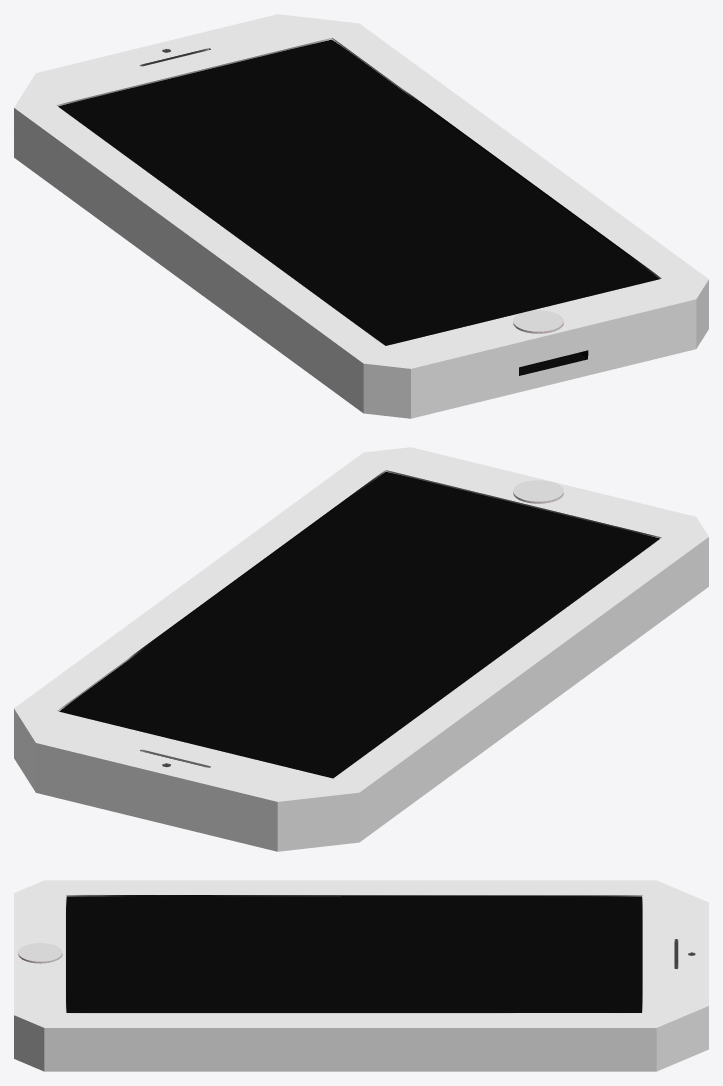
3 views of the same model, one above another, from view 1: azimuth 30°, elevation 25°; view 2: azimuth 150°, elevation 25°; view 3: azimuth 270°, elevation 25° (orthographic). The views are drawn at different scales.
Parts seen in each view (by area): view 1: 柱体; view 2: 柱体; view 3: 柱体.
Boxes of the visible parts, x1,y1,x2,y2 form: 柱体: [14, 14, 708, 418]; 柱体: [14, 447, 708, 851]; 柱体: [14, 880, 708, 1071].
Bounding box in the file's own units: 200 × 28.69 × 398.
Materials: 1 (1 with a texture image).
